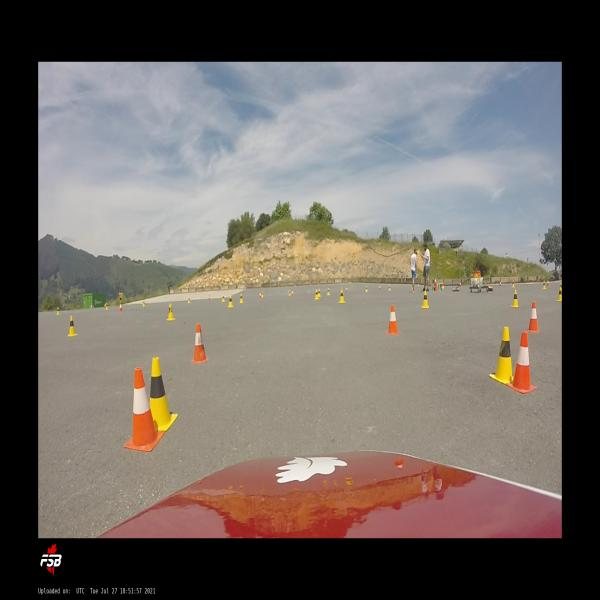orange_cone: (124, 367, 165, 451), (509, 331, 537, 394), (190, 324, 208, 362), (386, 306, 400, 334), (527, 302, 540, 332), (119, 303, 122, 312), (259, 291, 261, 298), (547, 280, 549, 286), (292, 291, 293, 296), (500, 282, 501, 287)
unknown_cone: (434, 278, 438, 291), (438, 283, 441, 291), (432, 282, 434, 292)
yellow_cone: (149, 358, 178, 430), (490, 327, 514, 384), (68, 316, 77, 336), (166, 303, 175, 321), (421, 291, 429, 308), (511, 290, 519, 307), (338, 289, 345, 303), (556, 288, 562, 301), (228, 295, 233, 308), (240, 293, 244, 303), (542, 280, 546, 290), (315, 289, 318, 300), (511, 280, 515, 288), (318, 288, 321, 297), (142, 300, 145, 306), (57, 307, 59, 315), (106, 302, 108, 310), (327, 288, 329, 296), (560, 282, 562, 290), (222, 295, 224, 302), (261, 291, 263, 298), (388, 284, 390, 291), (188, 298, 190, 304), (366, 286, 368, 292), (346, 287, 348, 292), (442, 284, 444, 289), (289, 290, 290, 296)
